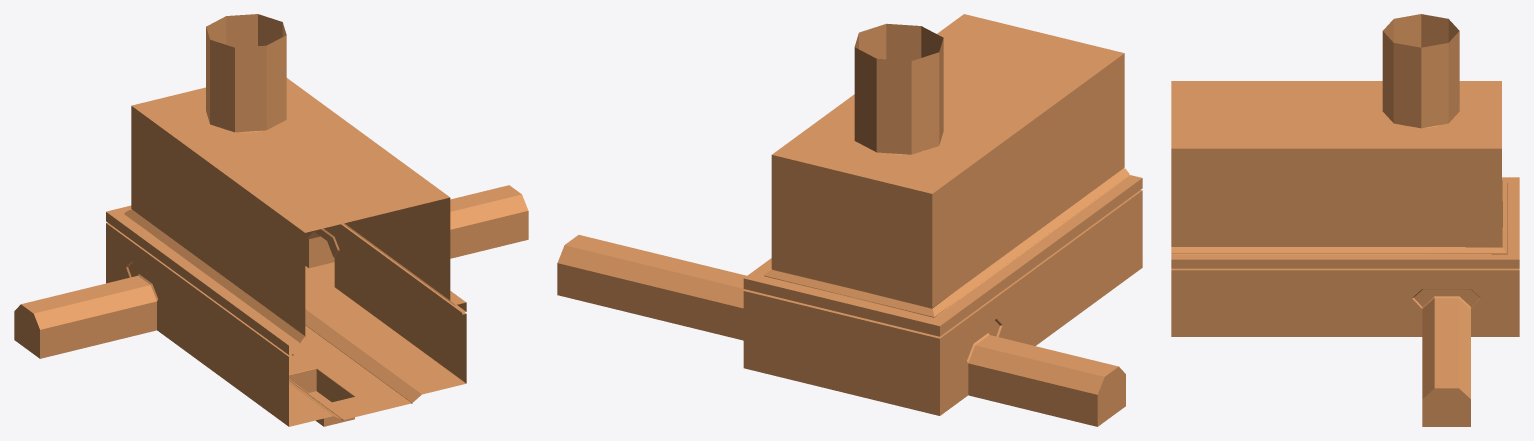
File: walls_01.fbx
3 renders of one model, left to right at view 1: azimuth 30°, elevation 25°; view 2: azimuth 150°, elevation 25°; view 3: azimuth 270°, elevation 25°, orthographic. The views are drawn at different scales.
Parts seen in each view (by area): view 1: walls_01; view 2: walls_01; view 3: walls_01.
Part boxes in pixels (x1=…): walls_01: x1=14, y1=14, x2=528, y2=426; walls_01: x1=557, y1=14, x2=1142, y2=426; walls_01: x1=1171, y1=14, x2=1519, y2=426.
Bounding box in the file's own units: 67.05 × 40.32 × 43.56.
